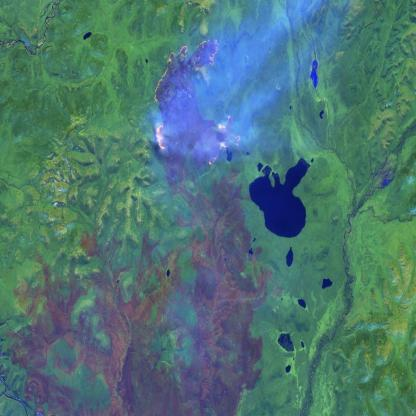fire: (150, 37, 243, 170)
